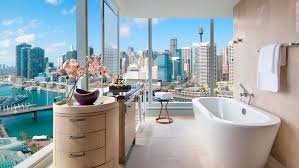bathub: (188, 92, 285, 168)
